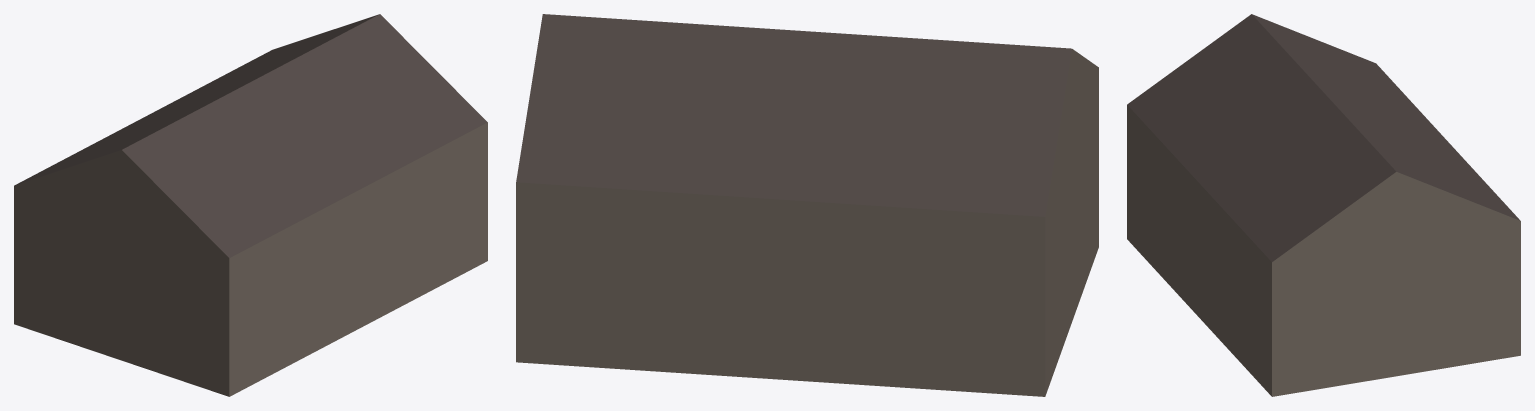
3 views of the same model, side by side, from view 1: azimuth 30°, elevation 25°; view 2: azimuth 150°, elevation 25°; view 3: azimuth 270°, elevation 25° (orthographic). The views are drawn at different scales.
Visible parts, largest first — view 1: HP-w859078934; view 2: HP-w859078934; view 3: HP-w859078934.
Boxes of the visible parts, x1,y1,x2,y2 form: HP-w859078934: (14, 14, 487, 396); HP-w859078934: (516, 14, 1098, 396); HP-w859078934: (1127, 14, 1520, 396).
Size of the model in its own units: 28.53 by 13.68 by 23.86.
